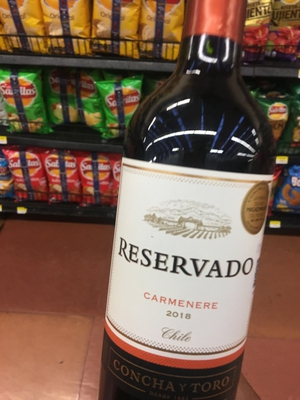reservado carmenere: (106, 3, 274, 400)
